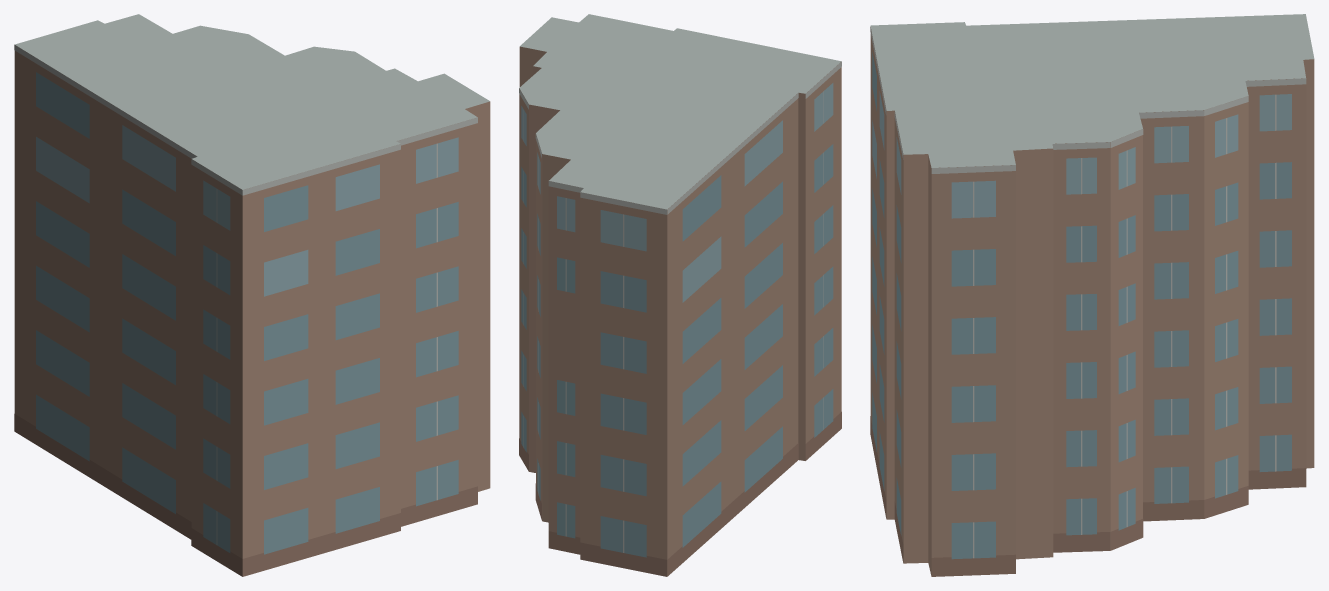
The model's file is survey-upis-32975365.glb.
3 renders of one model, left to right at view 1: azimuth 30°, elevation 25°; view 2: azimuth 150°, elevation 25°; view 3: azimuth 270°, elevation 25°, orthographic. The views are drawn at different scales.
Visible parts, largest first — view 1: survey-upis-32975365.tmp; view 2: survey-upis-32975365.tmp; view 3: survey-upis-32975365.tmp.
Part boxes in pixels (left/top/right/bottom): survey-upis-32975365.tmp: left=14, top=14, right=490, bottom=576; survey-upis-32975365.tmp: left=519, top=14, right=841, bottom=576; survey-upis-32975365.tmp: left=870, top=14, right=1314, bottom=576.
Bounding box in the file's own units: 13.26 × 16.4 × 16.15.
